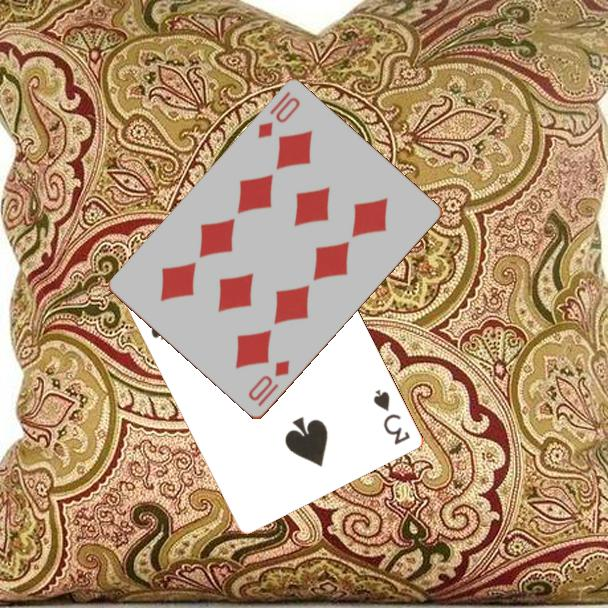d10: (254, 88, 303, 142), (244, 357, 293, 410)
s03: (369, 386, 413, 448)
